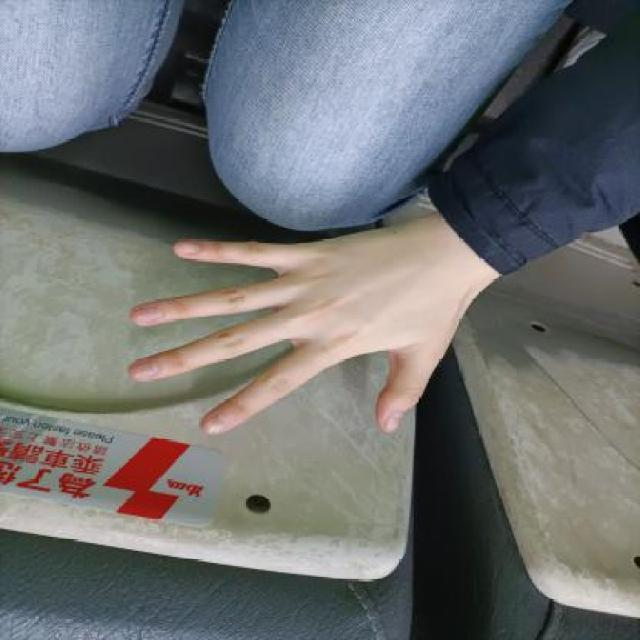bare_hand: (110, 203, 518, 468)
